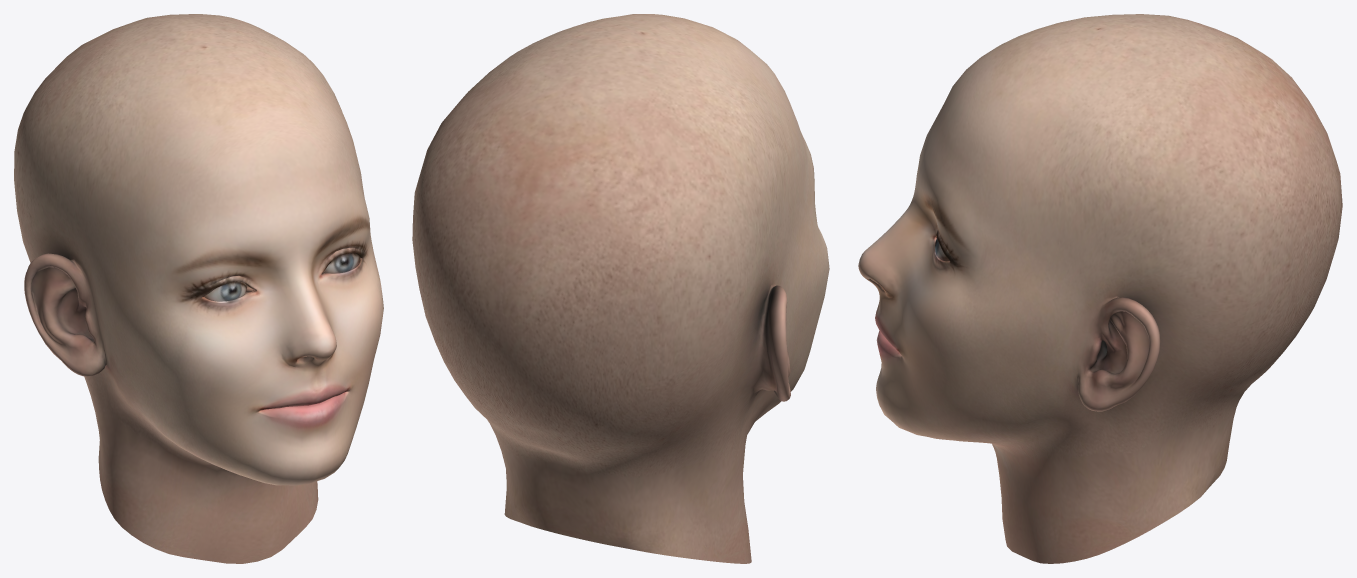
The model's file is Beautiful 3D Model Head - Samantha.fbx.
3 renders of one model, left to right at view 1: azimuth 30°, elevation 25°; view 2: azimuth 150°, elevation 25°; view 3: azimuth 270°, elevation 25°, orthographic. The views are drawn at different scales.
Visible parts, largest first — view 1: Head; view 2: Head; view 3: Head.
Boxes of the visible parts, <box> form: Head: <box>14,14,383,563</box>; Head: <box>412,14,829,563</box>; Head: <box>858,14,1342,563</box>.
Size of the model in its own units: 0.19 by 0.2741 by 0.2366.
